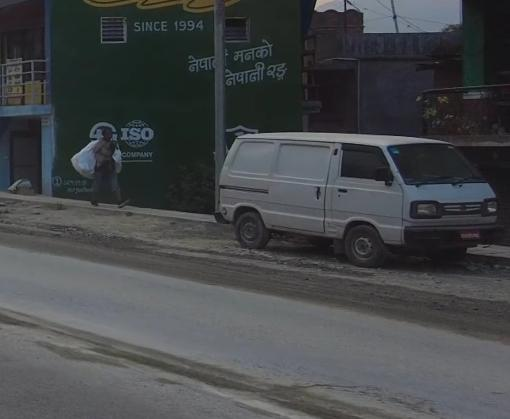van: (214, 121, 508, 274)
